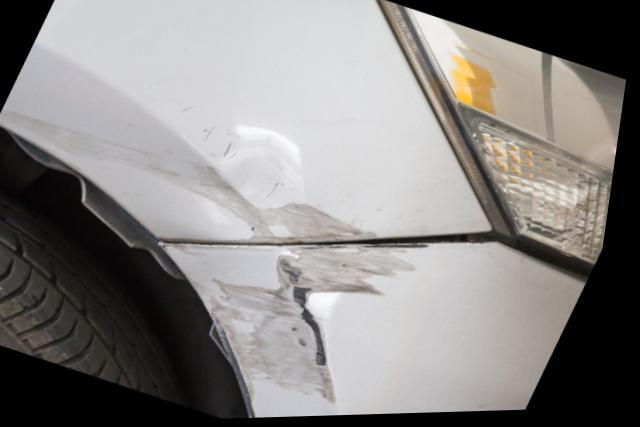dent: (212, 157, 291, 224)
scratch: (220, 244, 439, 420), (0, 107, 220, 198), (250, 202, 388, 246)
